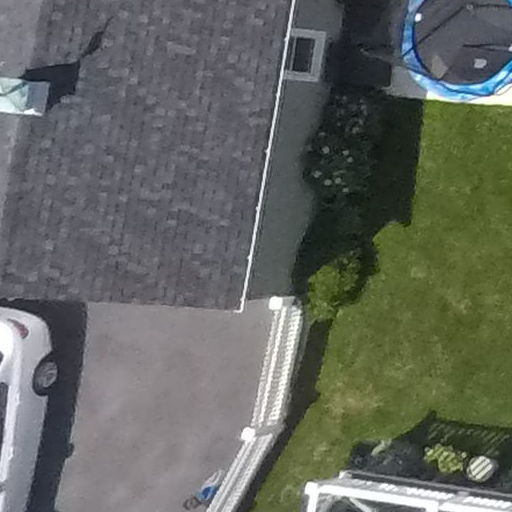container: (464, 452, 503, 486)
fence: (194, 290, 317, 512)
